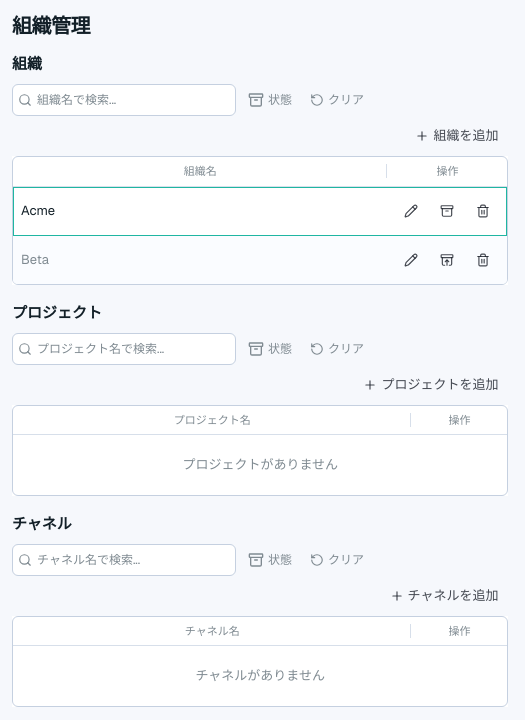
Test case: OrganizationsScreen › クリアで検索語と絞り込みチップの両方が既定へ戻る
The image size is (525, 720).
Type "Acme" into the search field labelled "組織名で検索..." at (124, 100), box [12,84,236,116]
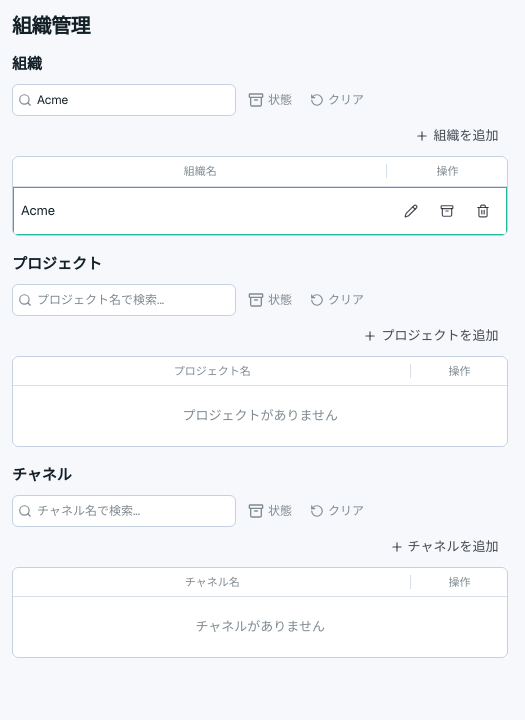
Click the button with aria-label "状態で絞り込み" at (270, 100), box [242,85,298,115]
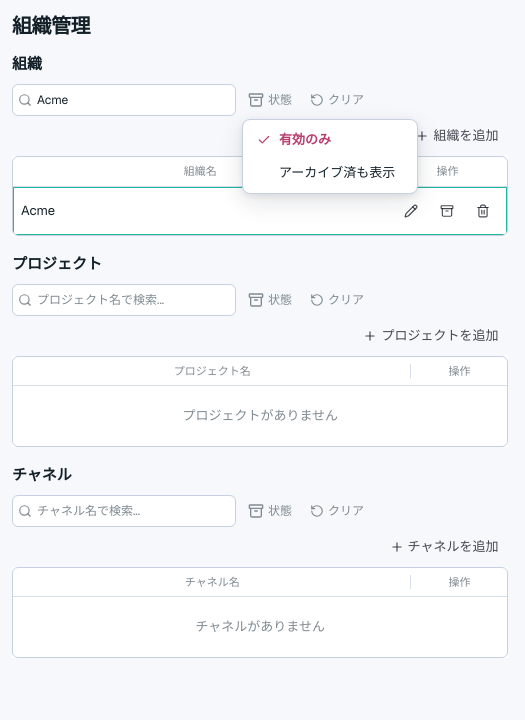
Click the option "アーカイブ済も表示" at (337, 172), box [279,164,395,181]
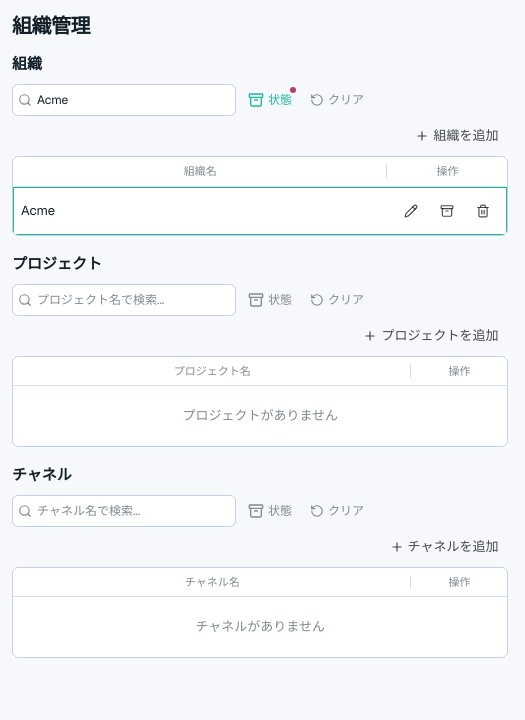
Click the button with aria-label "フィルタをクリア" at (337, 100), box [304,85,370,115]
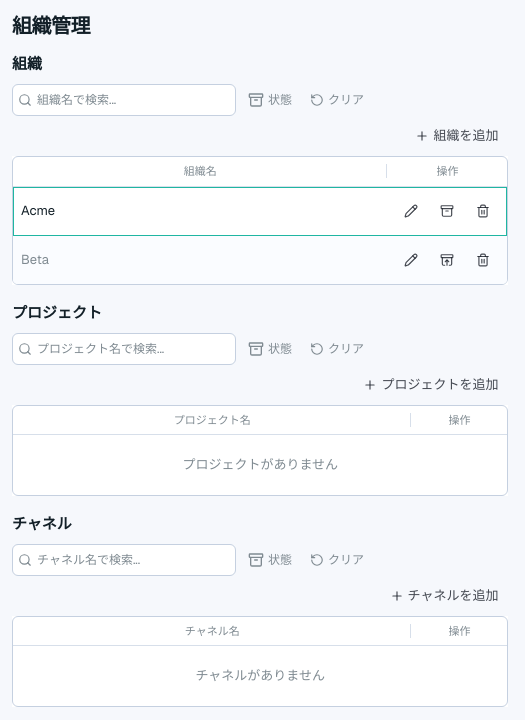
Now the search field labelled "組織名で検索..." is empty, box [12,84,236,116]
